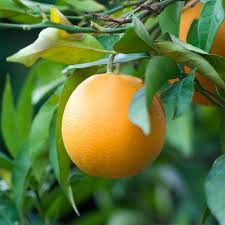orange: (55, 70, 168, 184), (163, 1, 225, 110)
